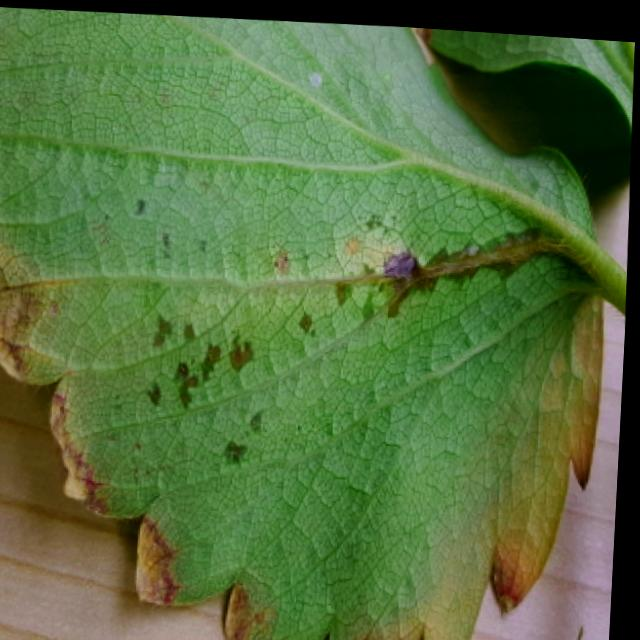Angular Leafspot: (108, 178, 576, 479)
